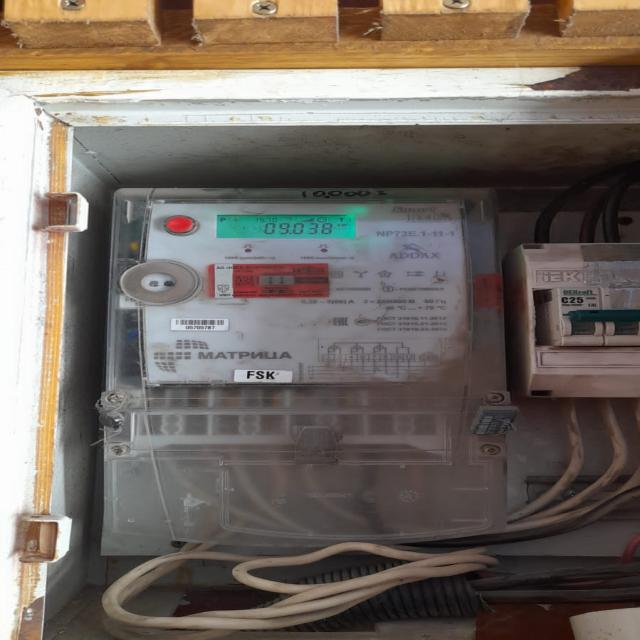Display: (214, 215, 360, 240)
meter_matrica: (134, 196, 485, 397)
meter_number: (172, 318, 234, 332)
seal_imp: (209, 262, 335, 298)
